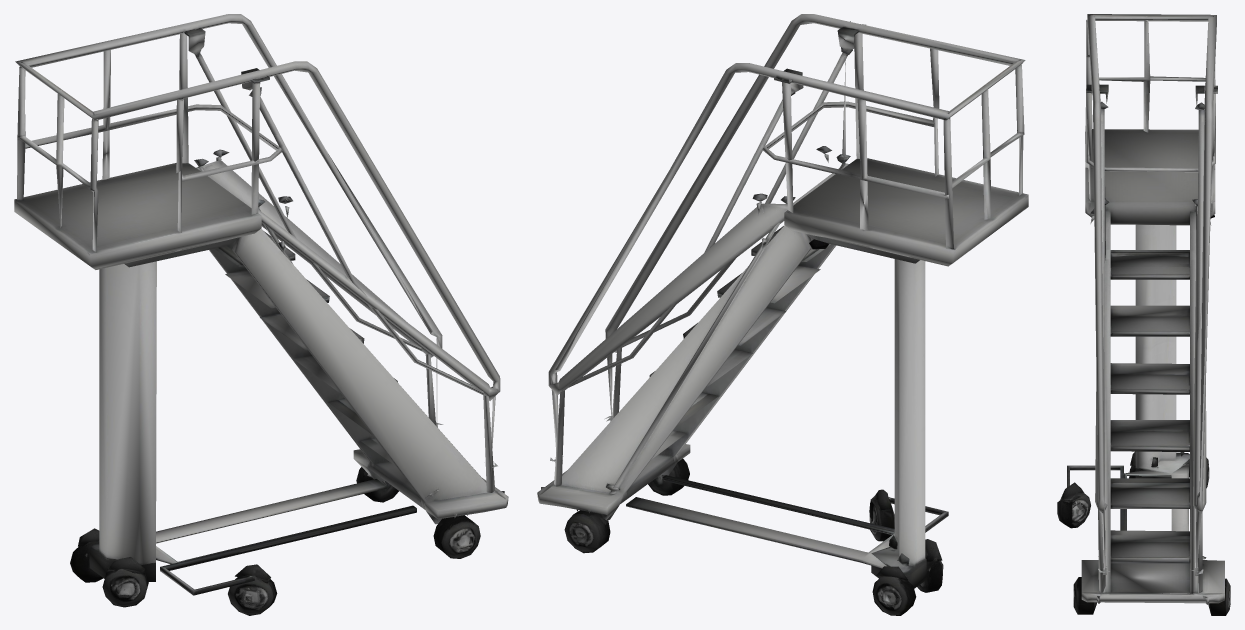
File: air-stairs.glb
3 views of the same model, side by side, from view 1: azimuth 30°, elevation 25°; view 2: azimuth 150°, elevation 25°; view 3: azimuth 270°, elevation 25° (orthographic). The views are drawn at different scales.
Parts seen in each view (by area): view 1: tripo_node_16655458-194a-421b-b34c-482a900e5603; view 2: tripo_node_16655458-194a-421b-b34c-482a900e5603; view 3: tripo_node_16655458-194a-421b-b34c-482a900e5603.
Part boxes in pixels (x1,y1,x2,y2): tripo_node_16655458-194a-421b-b34c-482a900e5603: (14,14,508,615); tripo_node_16655458-194a-421b-b34c-482a900e5603: (537,14,1028,615); tripo_node_16655458-194a-421b-b34c-482a900e5603: (1057,14,1230,615).
Size of the model in its own units: 0.834 by 0.998 by 0.3496.
1 material, 1 textured.
